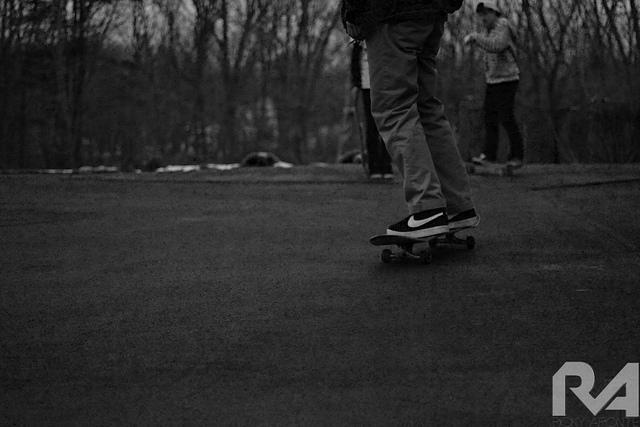car: (235, 152, 295, 169)
